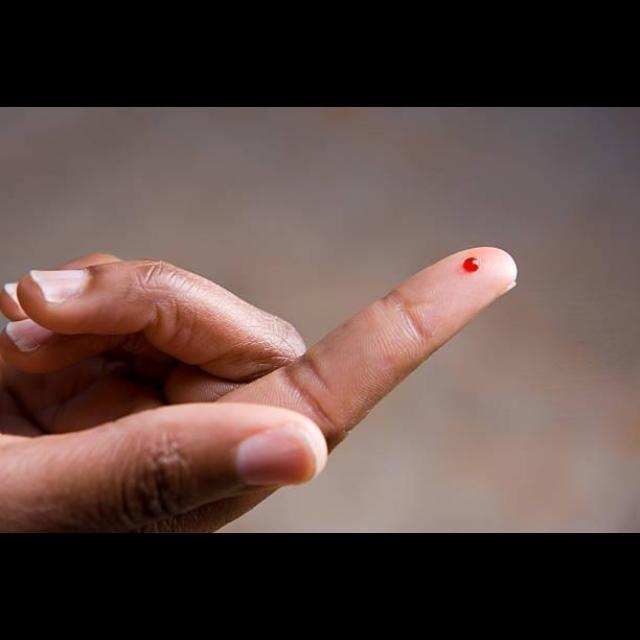blood: (463, 258, 480, 272)
